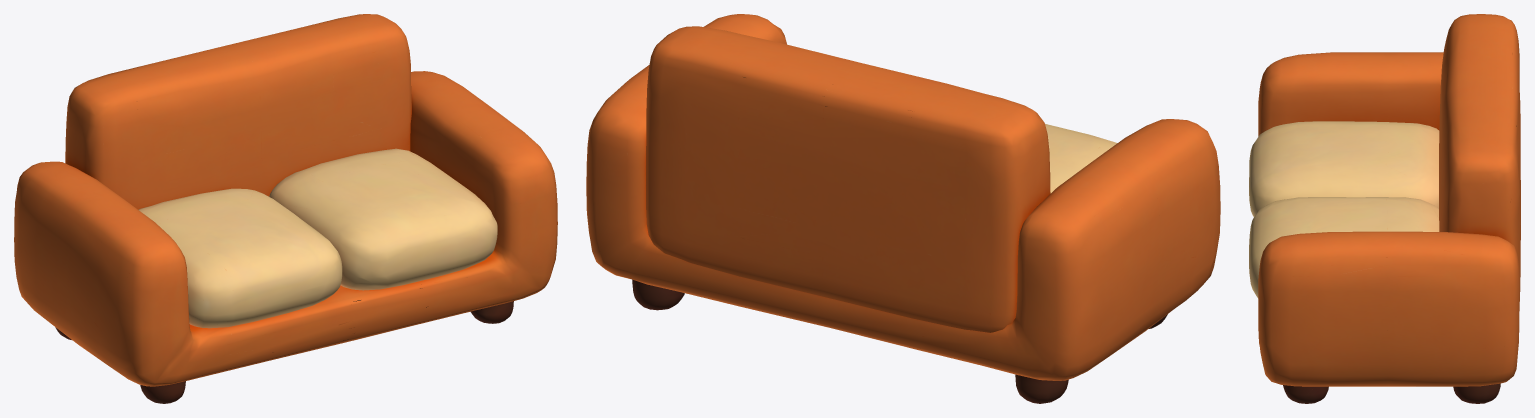
File: lounge_sofa.glb
3 renders of one model, left to right at view 1: azimuth 30°, elevation 25°; view 2: azimuth 150°, elevation 25°; view 3: azimuth 270°, elevation 25°, orthographic. The views are drawn at different scales.
Parts seen in each view (by area): view 1: geometry_0; view 2: geometry_0; view 3: geometry_0.
Boxes of the visible parts, x1,y1,x2,y2 form: geometry_0: (14,14,557,403); geometry_0: (586,14,1220,403); geometry_0: (1249,14,1520,403).
Bounding box in the file's own units: 0.9565 × 0.5063 × 0.5181.
Materials: 1 (1 with a texture image).
